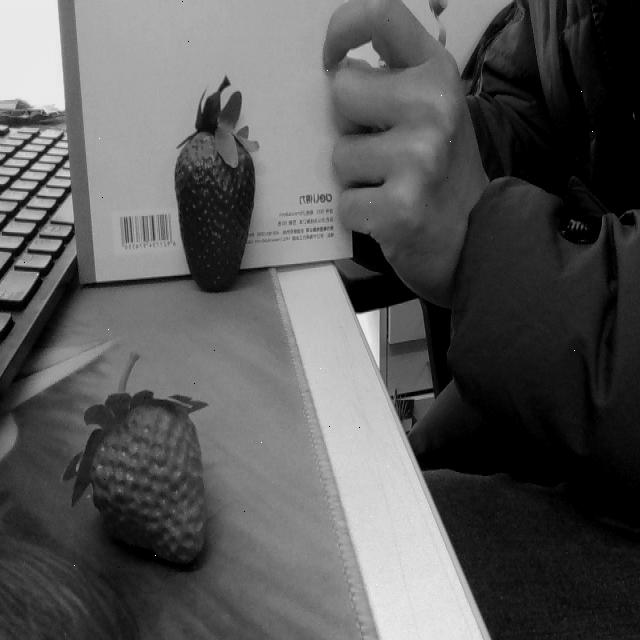ripe: (174, 123, 256, 292)
unripe: (88, 400, 206, 568)
